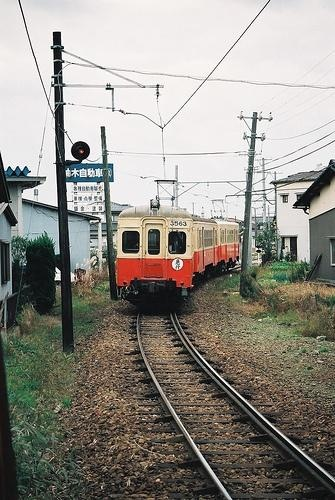train: (117, 197, 242, 306)
